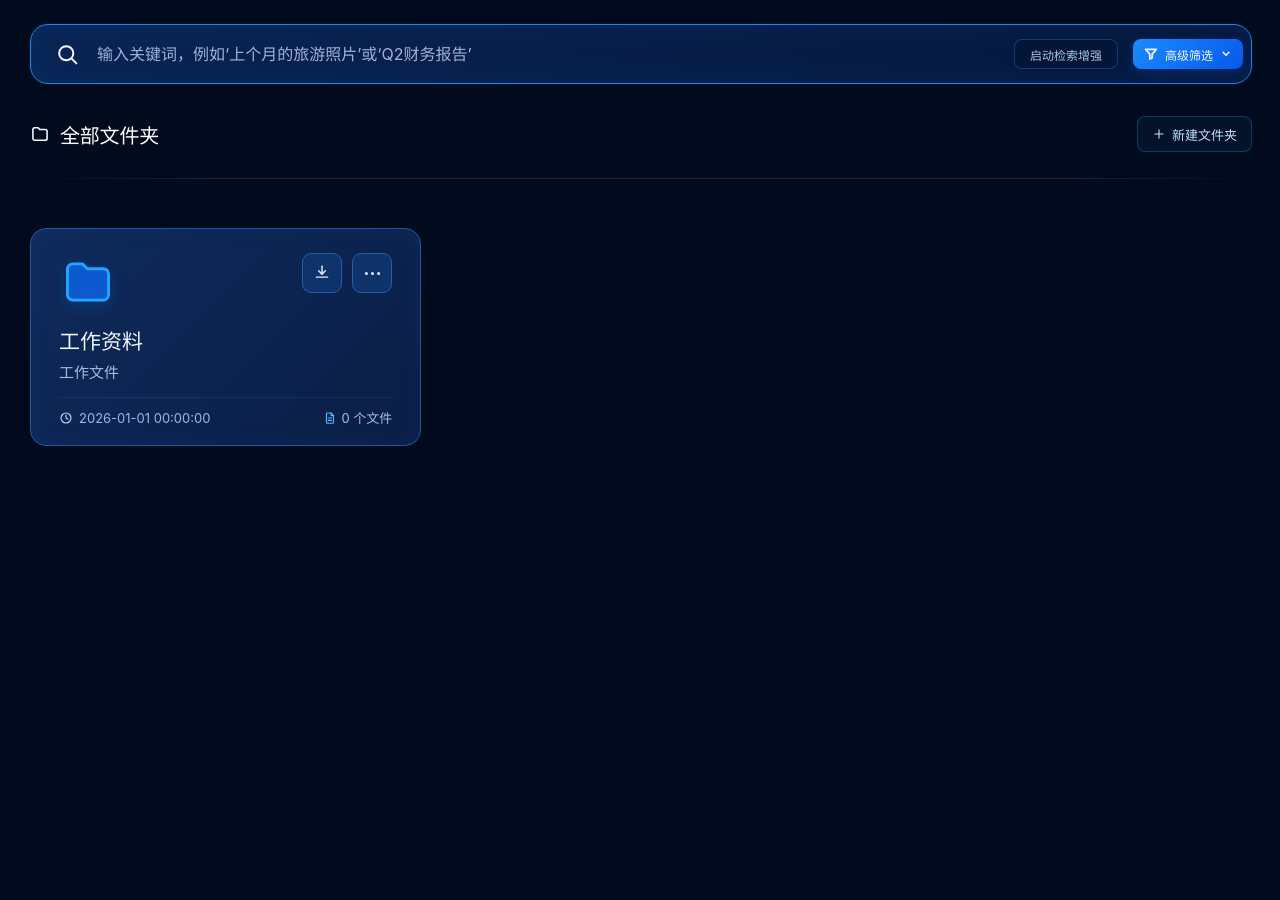
Test: LibraryPage › does not cover enhanced retrieval progress with the search loading page
The image size is (1280, 900).
Expected: the heading "工作资料" is shown, [59, 329, 143, 354]
Click the button "启动检索增强". click: (1066, 54)
box: [1014, 39, 1118, 69]
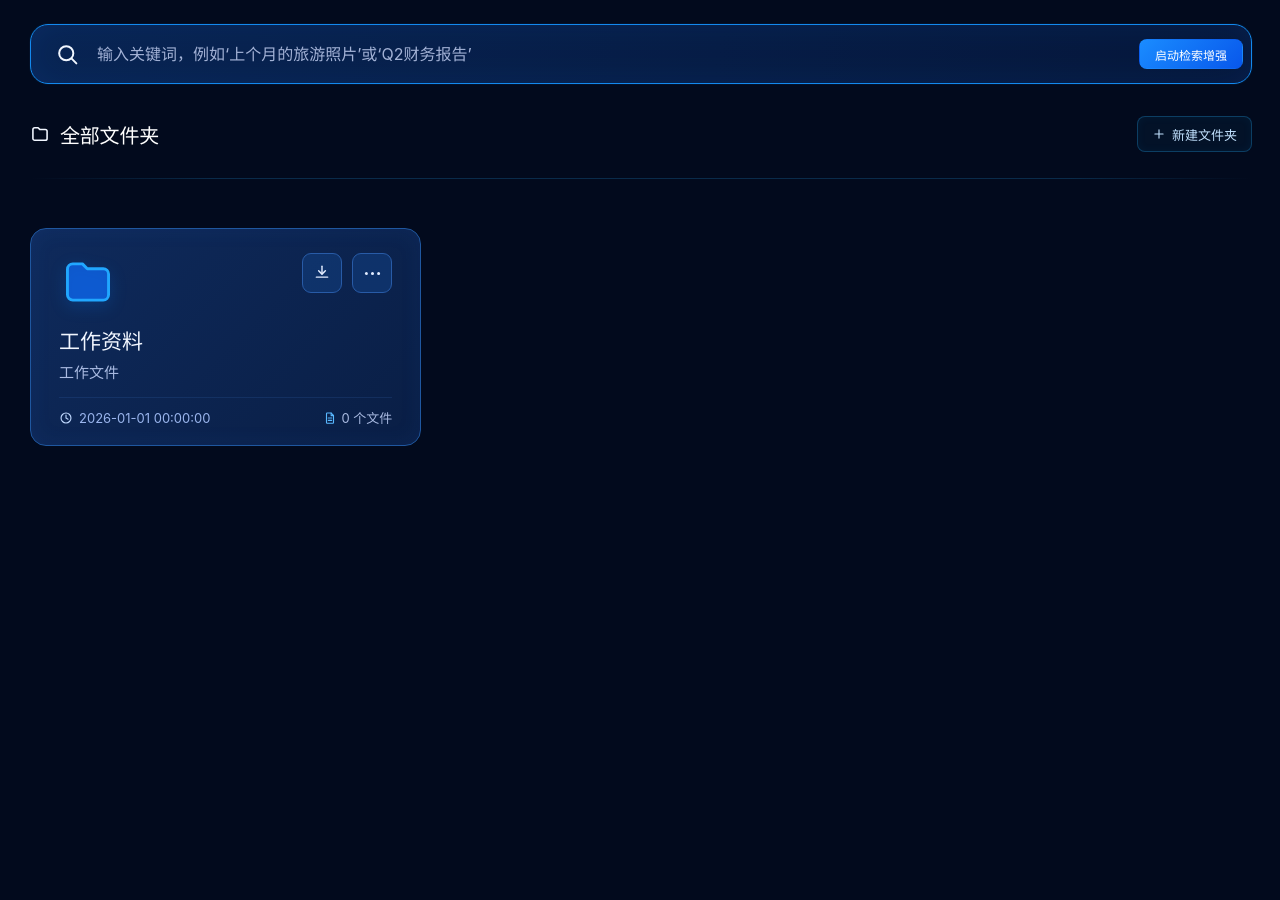
Type "上个月旅行的猫照片" into the field named "全局搜索". click: (610, 54)
box: [95, 43, 1124, 65]
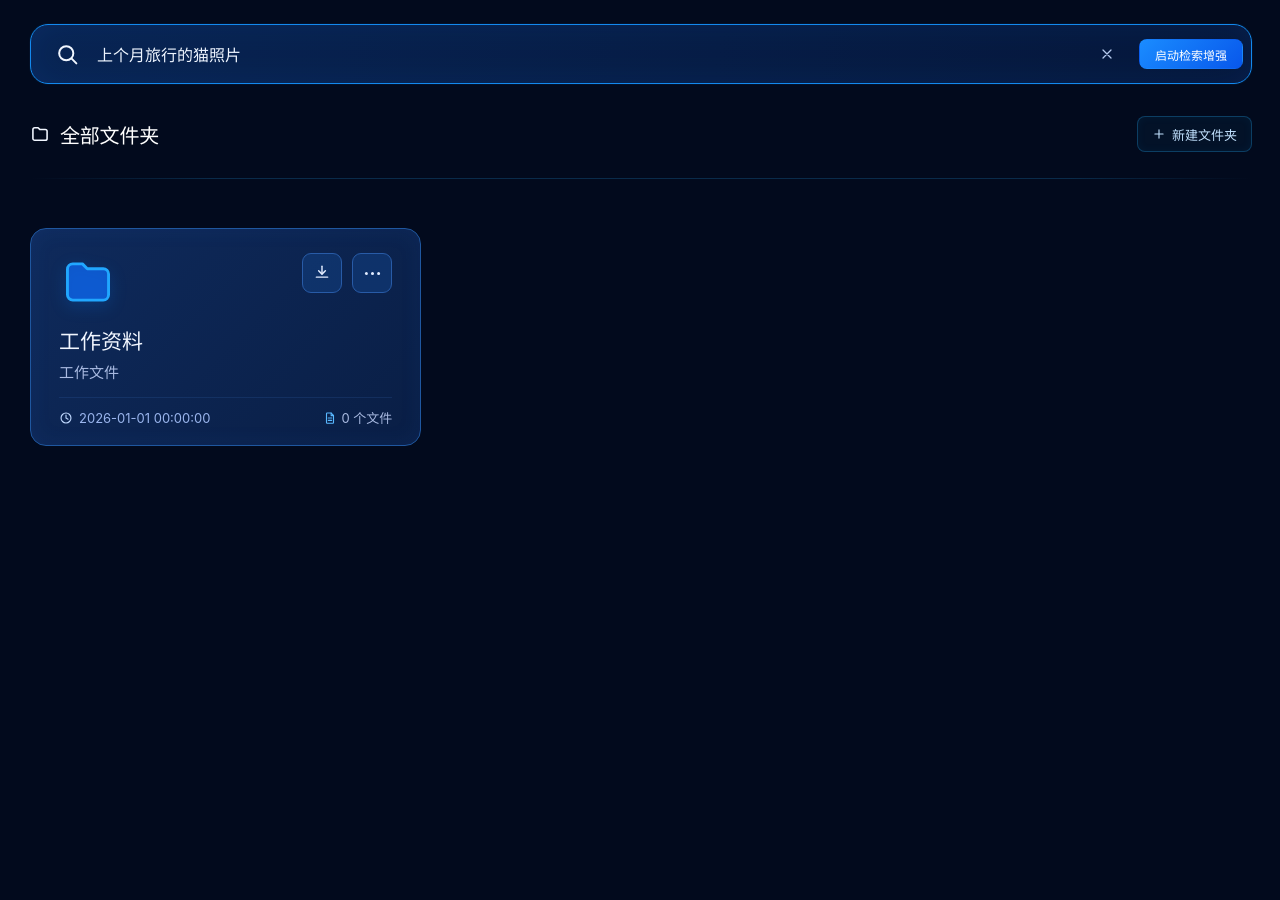
Submit the form named "全局搜索", box [30, 24, 1252, 84]
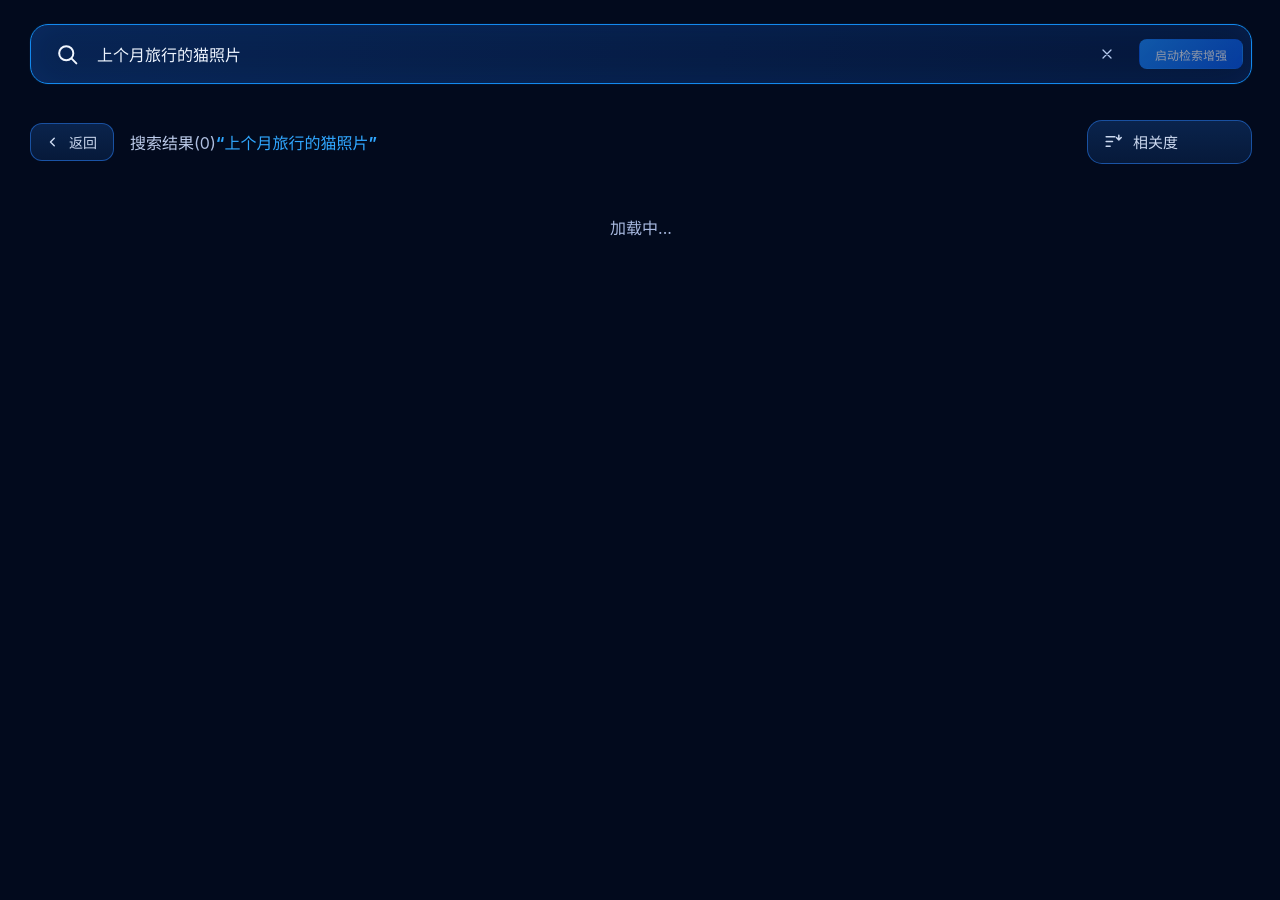
Expected: the field is disabled, [95, 43, 1074, 65]
Submit the form named "全局搜索", box [30, 24, 1252, 84]
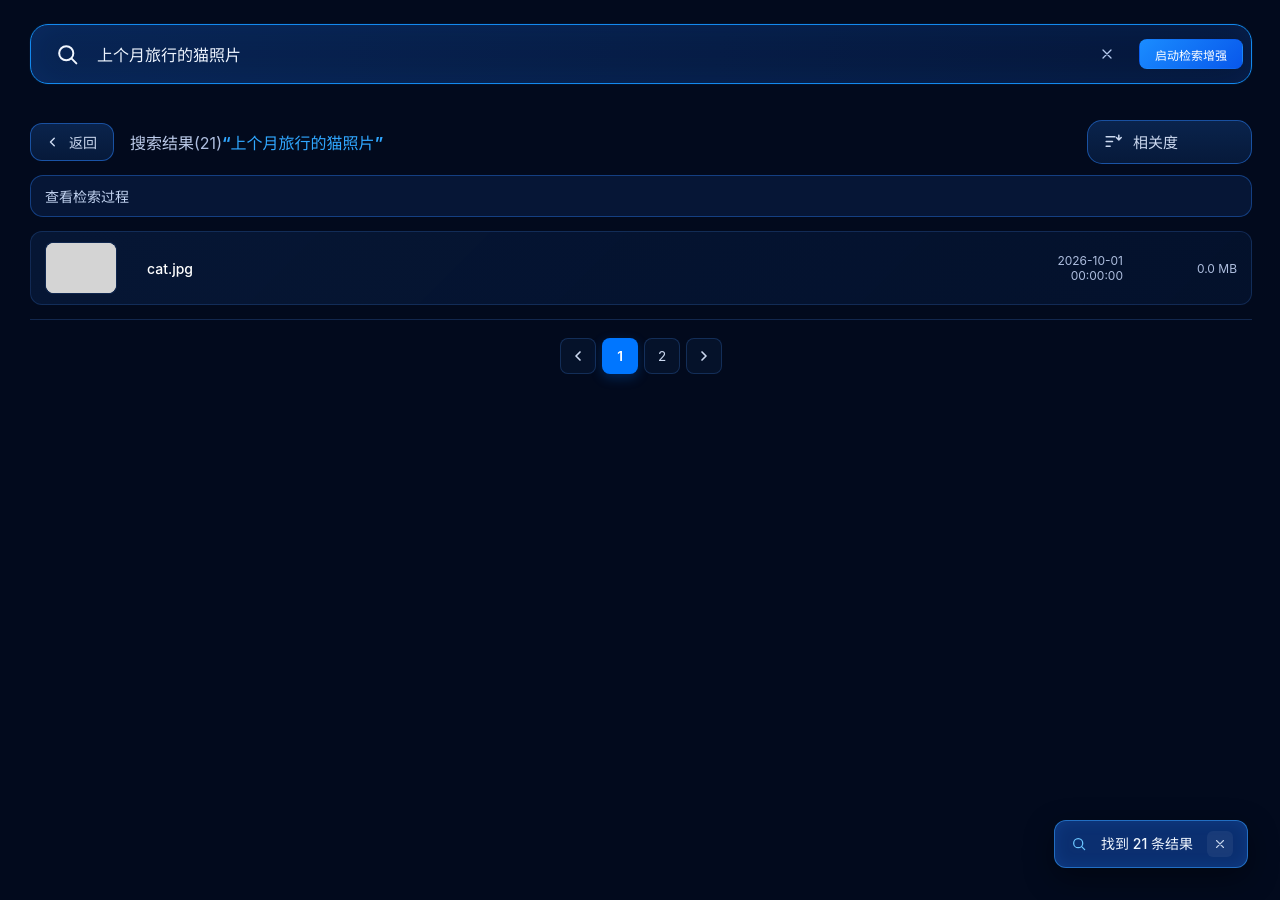
Expected: the text "找到 21 条结果" is shown, [1101, 834, 1193, 854]
